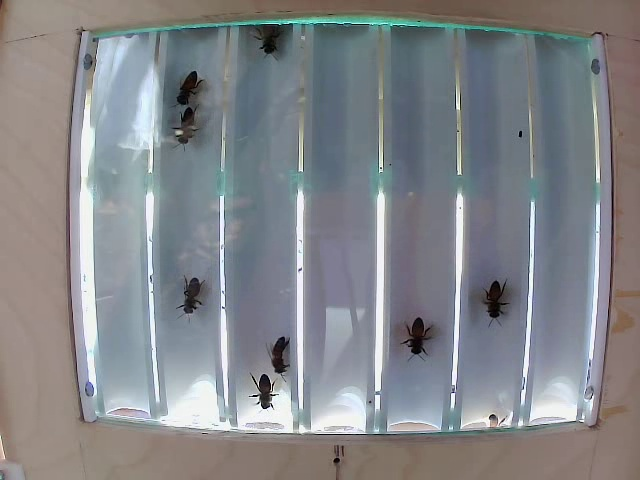bee: (242, 365, 288, 411), (264, 327, 302, 378), (401, 309, 437, 361), (178, 273, 219, 317), (477, 271, 504, 324), (175, 73, 211, 111), (179, 108, 208, 142), (255, 24, 284, 57)
